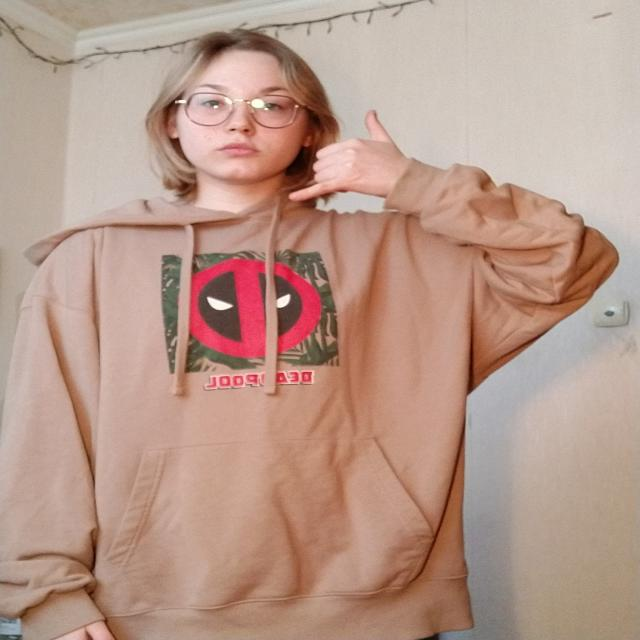call: (286, 107, 412, 208)
